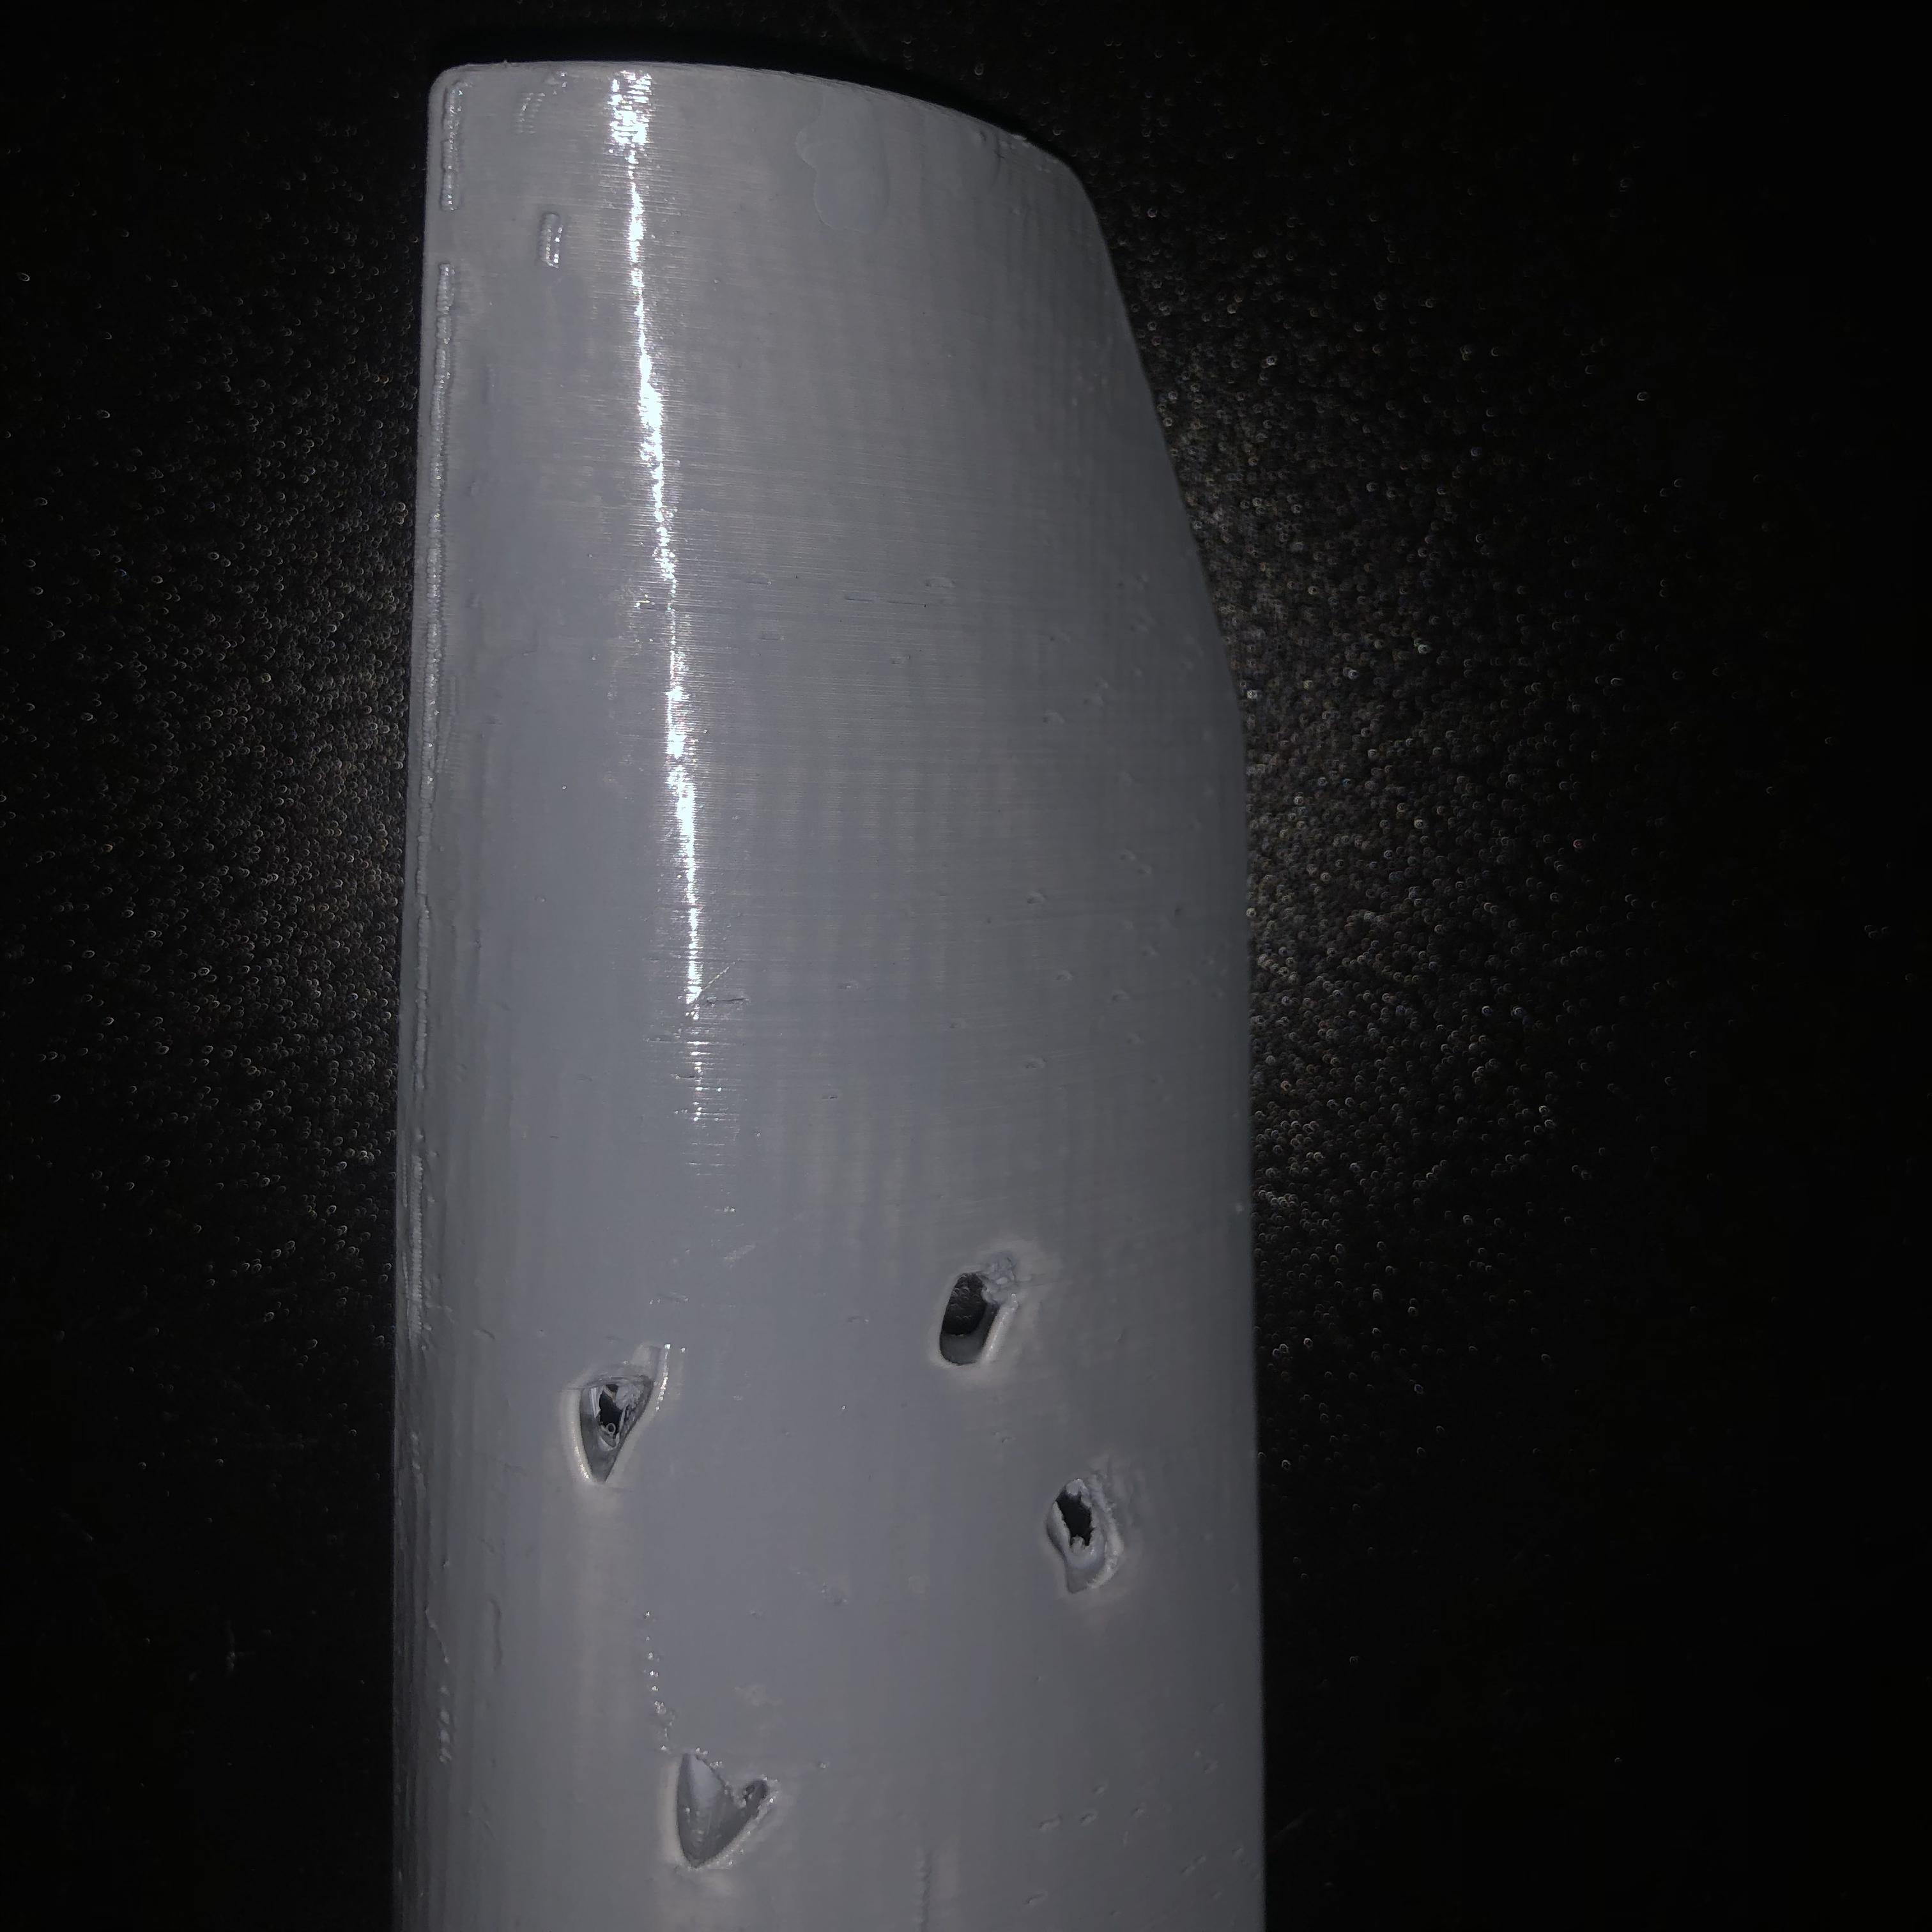breakdown: (931, 1261, 1141, 1610), (665, 1741, 789, 1886), (557, 1355, 681, 1495)
